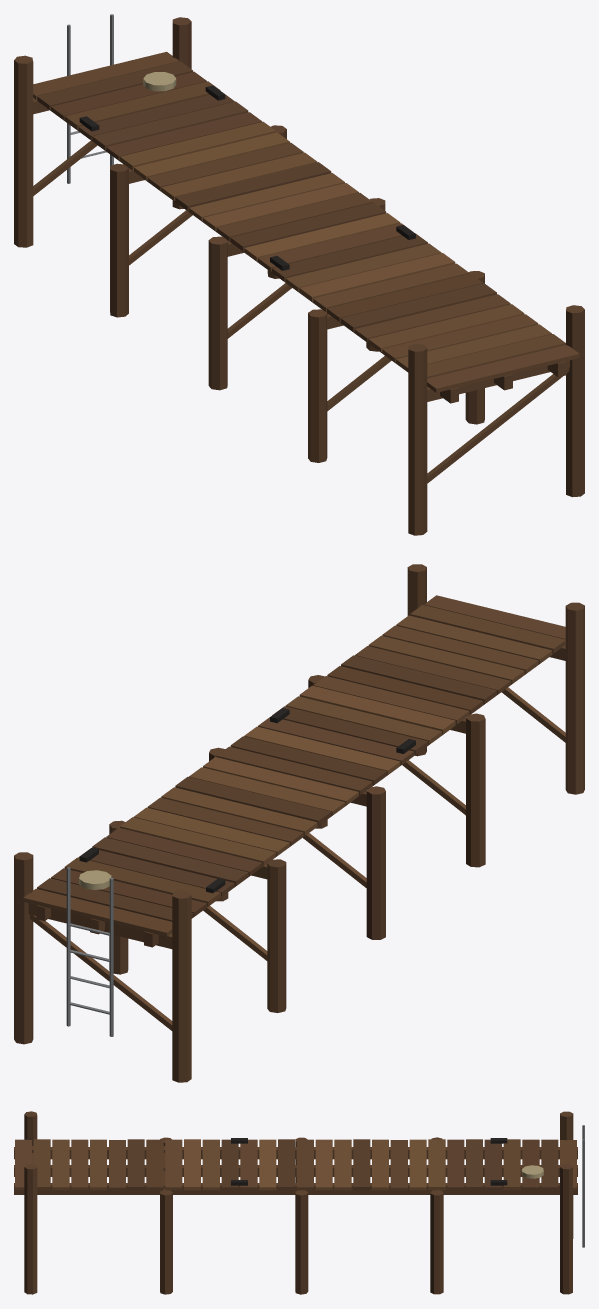
Rendered from dock.glb.
3 renders of one model, top to bottom at view 1: azimuth 30°, elevation 25°; view 2: azimuth 150°, elevation 25°; view 3: azimuth 270°, elevation 25°, orthographic. The views are drawn at different scales.
Visible parts, largest first — view 1: dock; view 2: dock; view 3: dock.
Part boxes in pixels (x1,y1,x2,y2): dock: [14, 14, 584, 535]; dock: [14, 564, 584, 1082]; dock: [14, 1111, 584, 1294].
Bounding box in the file's own units: 2.44 × 2.6 × 10.12.
